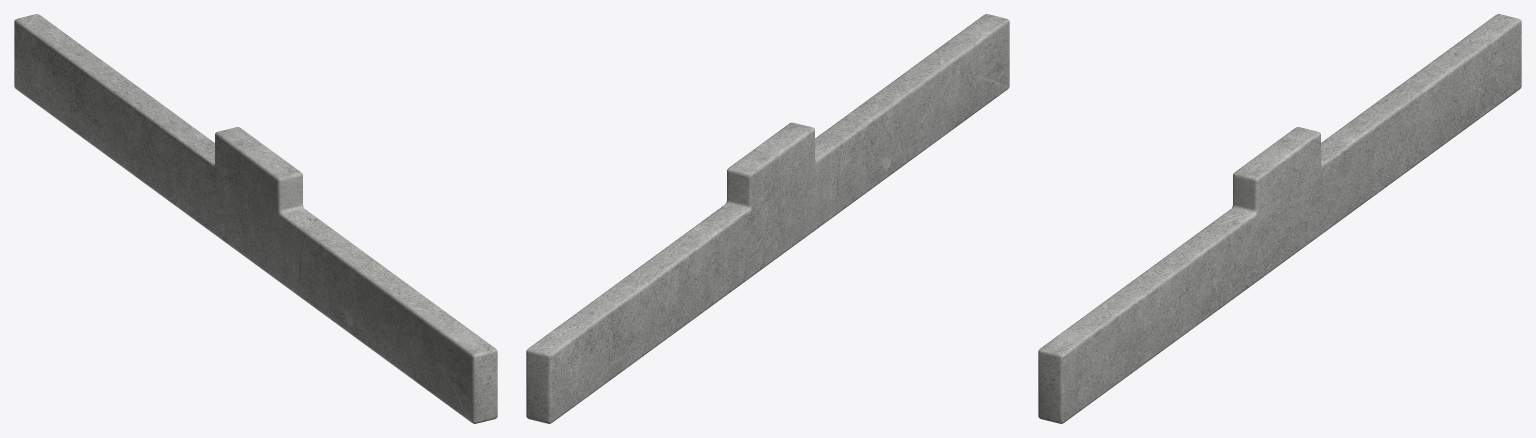
Rendered from SM_SJM_SteppingStoneE_01.fbx.
3 renders of one model, left to right at view 1: azimuth 30°, elevation 25°; view 2: azimuth 150°, elevation 25°; view 3: azimuth 330°, elevation 25°, orthographic.
Visible parts, largest first — view 1: SM_SJM_SteppingStoneE_01; view 2: SM_SJM_SteppingStoneE_01; view 3: SM_SJM_SteppingStoneE_01.
Part boxes in pixels (left/top/right/bottom): SM_SJM_SteppingStoneE_01: left=14, top=14, right=497, bottom=423; SM_SJM_SteppingStoneE_01: left=526, top=14, right=1009, bottom=423; SM_SJM_SteppingStoneE_01: left=1038, top=14, right=1521, bottom=423.
Size of the model in its own units: 7.69 by 240 by 29.97.
1 material, 1 textured.
